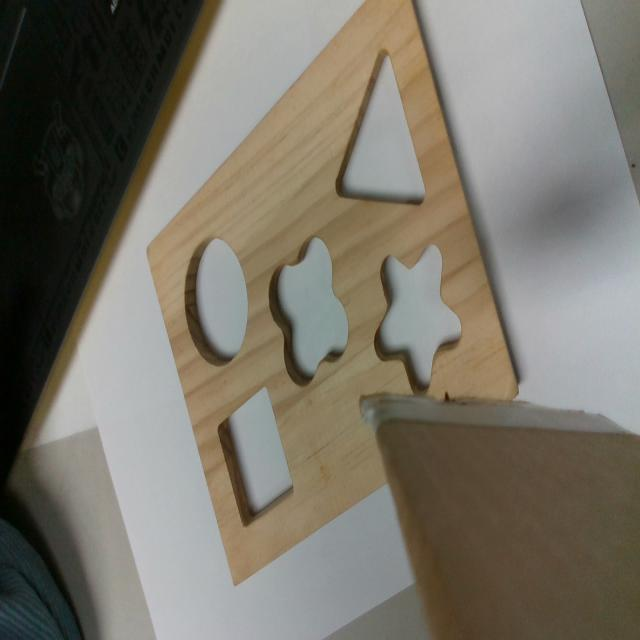circle: (184, 238, 248, 367)
flower: (266, 235, 351, 389)
square: (212, 379, 299, 530)
star: (375, 244, 459, 400)
triangle: (333, 48, 429, 206)
